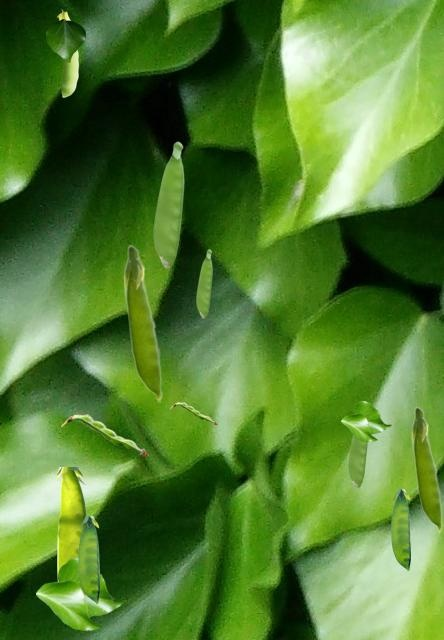pea: (123, 244, 162, 402), (411, 406, 442, 532), (153, 141, 183, 267), (61, 414, 147, 454), (57, 467, 86, 580), (57, 9, 77, 96), (78, 516, 98, 603), (391, 489, 409, 570), (196, 249, 211, 317), (348, 434, 367, 487), (170, 402, 216, 423)
